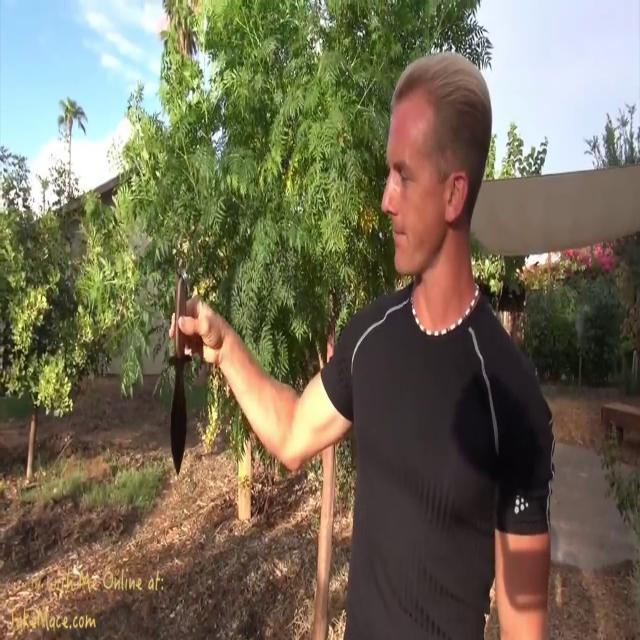knife: (155, 255, 202, 488)
